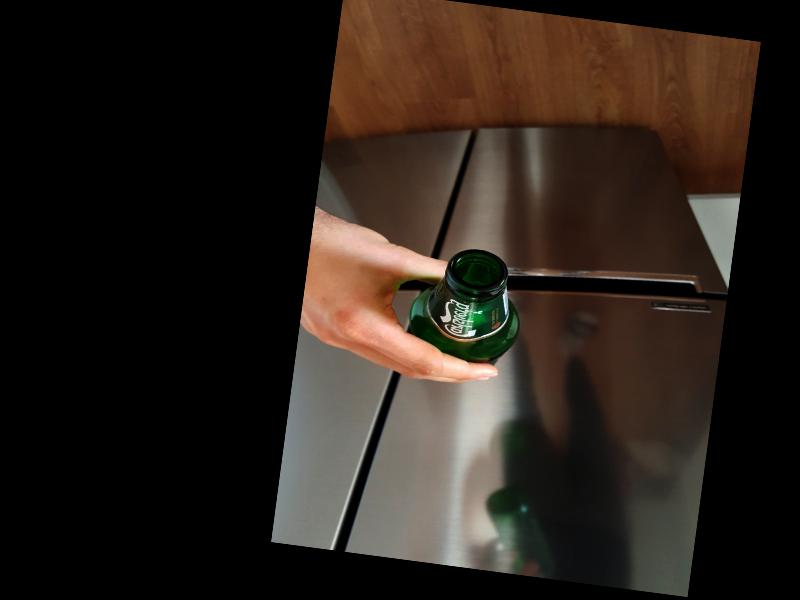Beer: (407, 241, 528, 368)
